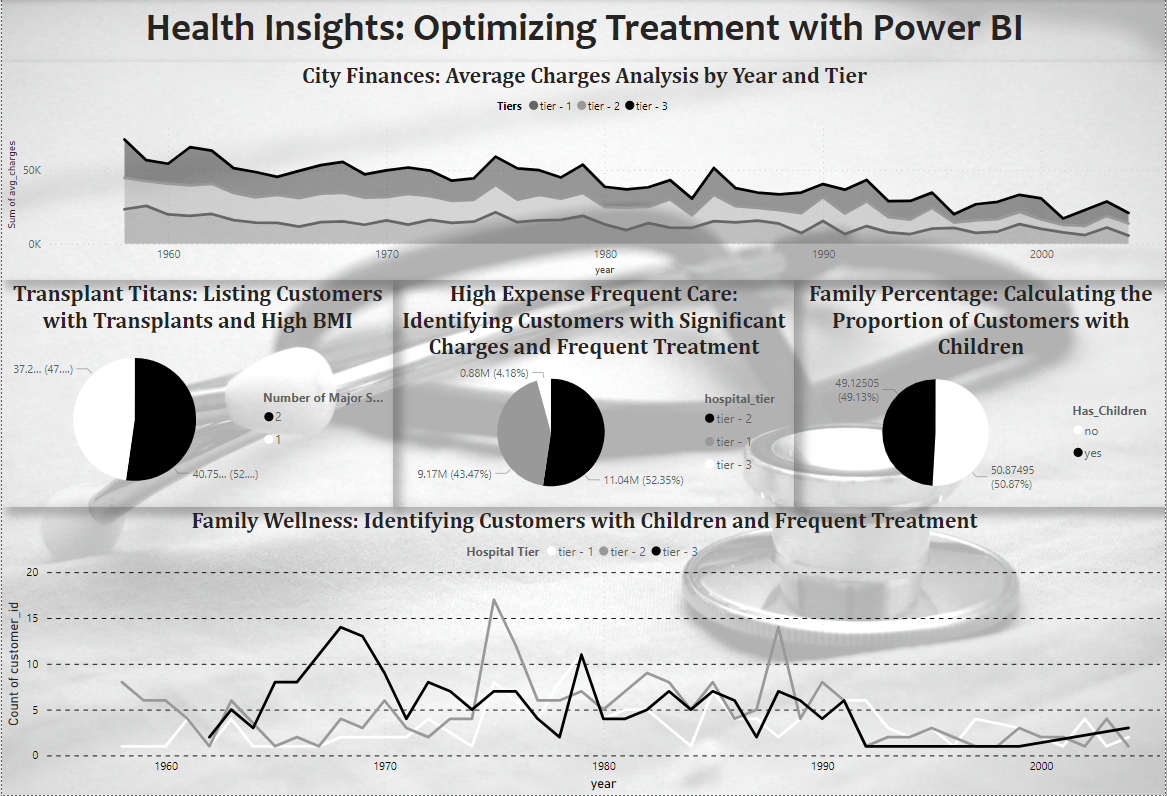

The page's visual inventory and layout, read from the dashboard file:
{"tool":"powerbi","page":{"name":"Dashboard 4","canvas":[1280,875],"ordinal":3},"visuals":[{"type":"textbox","box":[0,0,1280.2,68.7],"z":0},{"type":"stackedAreaChart","title":"City Finances: Average Charges Analysis by Year and Tier","fields":{"Category":["24.year"],"Y":["Sum(24.avg_charges)"],"Series":["24.city_tier"]},"box":[0,68.7,1280.2,240.4],"z":1},{"type":"pieChart","title":"Transplant Titans: Listing Customers with Transplants and High BMI","fields":{"Category":["26.numberofmajorsurgeries"],"Y":["Avg(26.BMI)"]},"box":[0,309.1,429.9,248.6],"z":2},{"type":"pieChart","title":"High Expense Frequent Care: Identifying Customers with Significant Charges and Frequent Treatment","fields":{"Category":["25.hospital_tier"],"Y":["Sum(25.charges)"]},"box":[429.9,309.1,440.9,248.6],"z":3},{"type":"pieChart","title":"Family Percentage: Calculating the Proportion of Customers with Children","fields":{"Category":["27.Has_Children"],"Y":["Sum(27.percentage)"]},"box":[870.9,309.1,409.3,248.6],"z":4},{"type":"lineChart","title":"Family Wellness: Identifying Customers with Children and Frequent Treatment","fields":{"Category":["21.year"],"Series":["21.hospital_tier"],"Y":["CountNonNull(21.customer_id)"]},"box":[0,557.7,1280.2,317.3],"z":5}]}

Visuals, with their boxes in screenshot pixels (x1, y1, x2, y2), scaled from the page's 1280x875 canvas onto the 1167x796 screenshot:
textbox: {"x1": 0, "y1": 0, "x2": 1166, "y2": 62}
"City Finances: Average Charges Analysis by Year and Tier" stackedAreaChart: {"x1": 0, "y1": 62, "x2": 1166, "y2": 281}
"Transplant Titans: Listing Customers with Transplants and High BMI" pieChart: {"x1": 0, "y1": 281, "x2": 392, "y2": 507}
"High Expense Frequent Care: Identifying Customers with Significant Charges and Frequent Treatment" pieChart: {"x1": 392, "y1": 281, "x2": 794, "y2": 507}
"Family Percentage: Calculating the Proportion of Customers with Children" pieChart: {"x1": 794, "y1": 281, "x2": 1166, "y2": 507}
"Family Wellness: Identifying Customers with Children and Frequent Treatment" lineChart: {"x1": 0, "y1": 507, "x2": 1166, "y2": 795}
